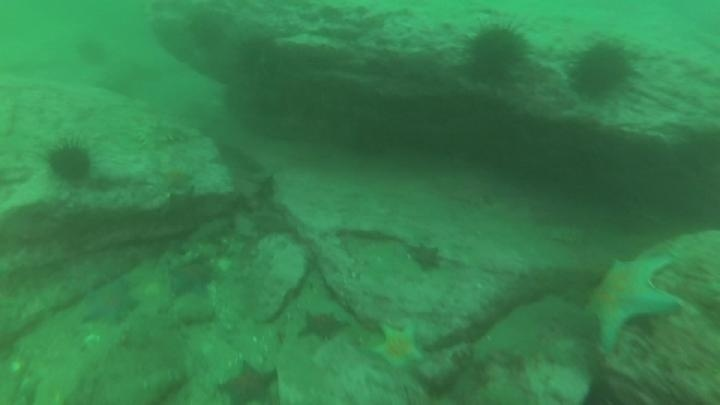echinus: (566, 38, 638, 103), (462, 20, 532, 86), (232, 34, 287, 93), (45, 138, 96, 187), (185, 9, 230, 54), (74, 35, 110, 68)
holothurian: (138, 117, 203, 150)
starfish: (583, 249, 683, 354), (215, 357, 280, 405), (79, 278, 141, 328), (368, 321, 426, 373), (165, 254, 218, 300), (296, 308, 348, 344), (405, 241, 445, 276), (156, 163, 197, 193)
